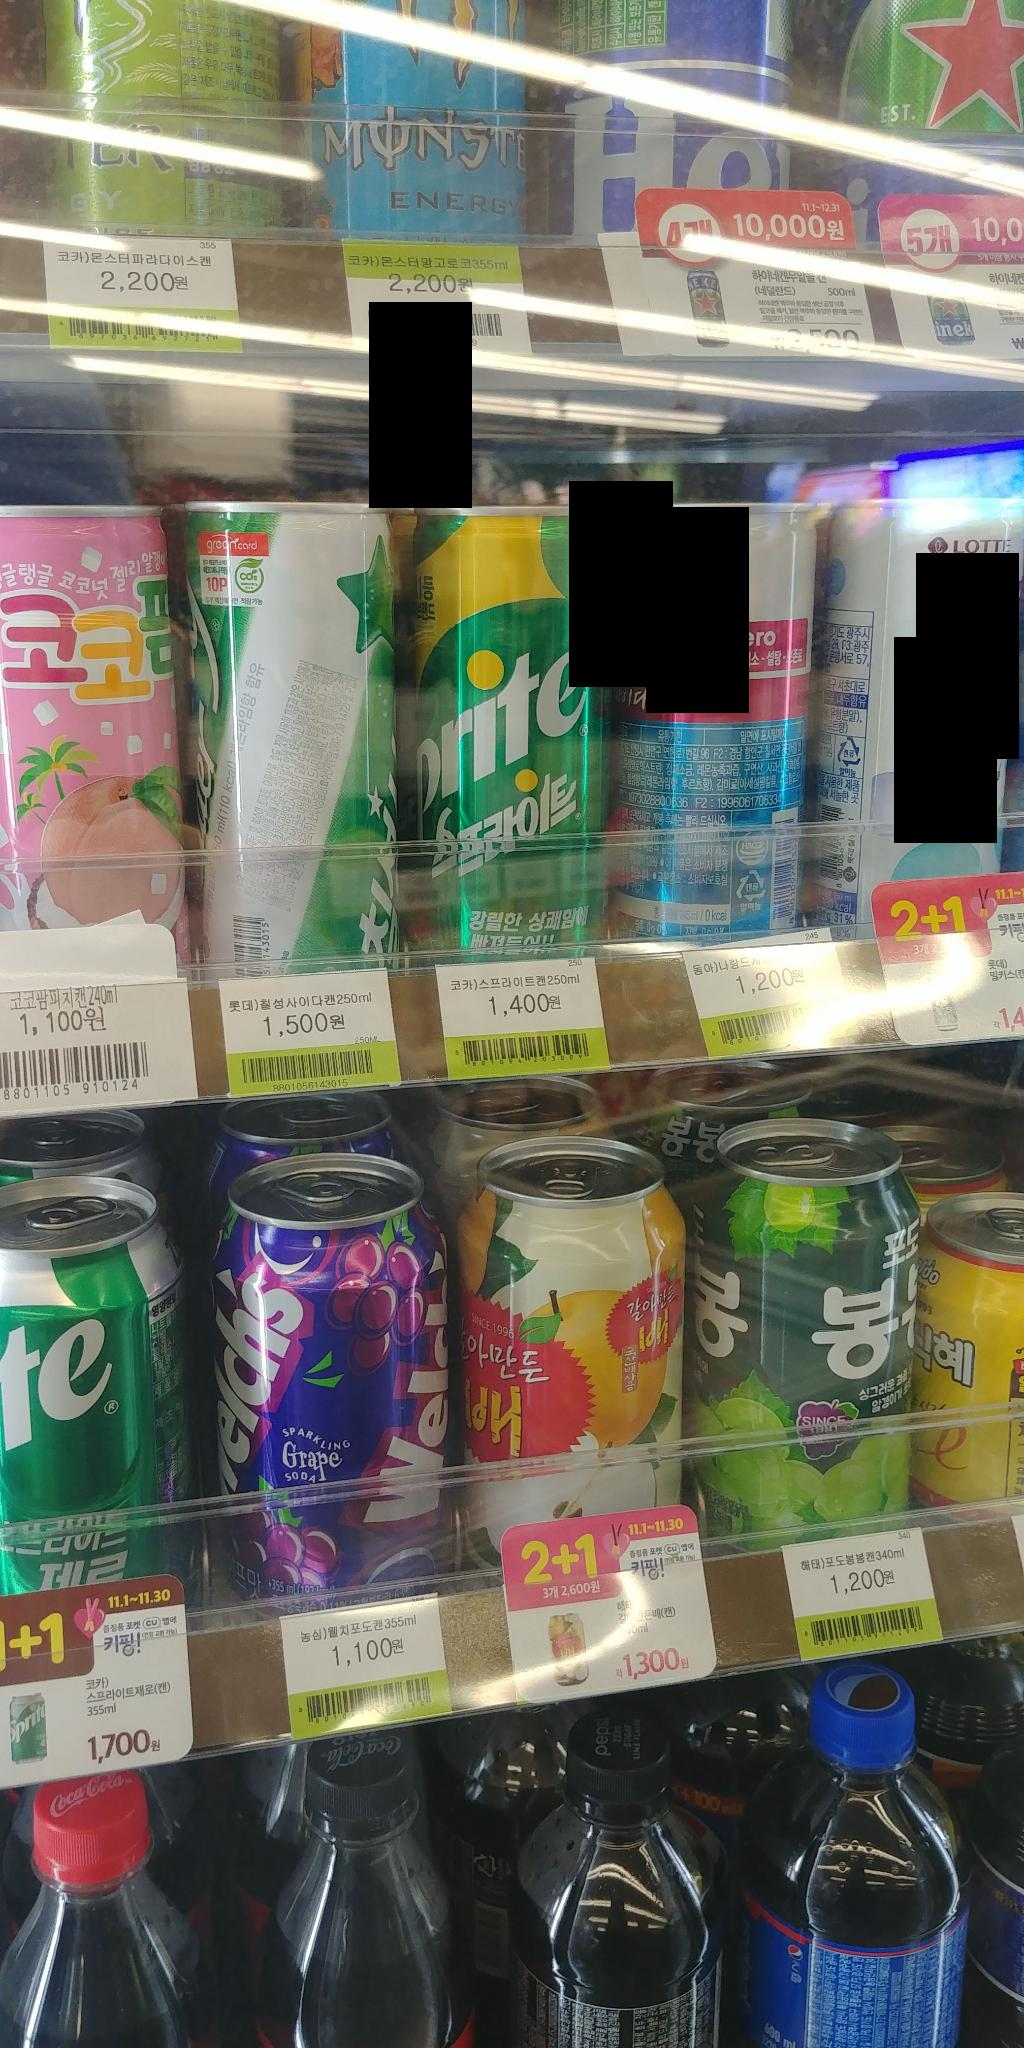narangdcider: (598, 482, 811, 938)
welchs_grape: (188, 1159, 468, 1607)
